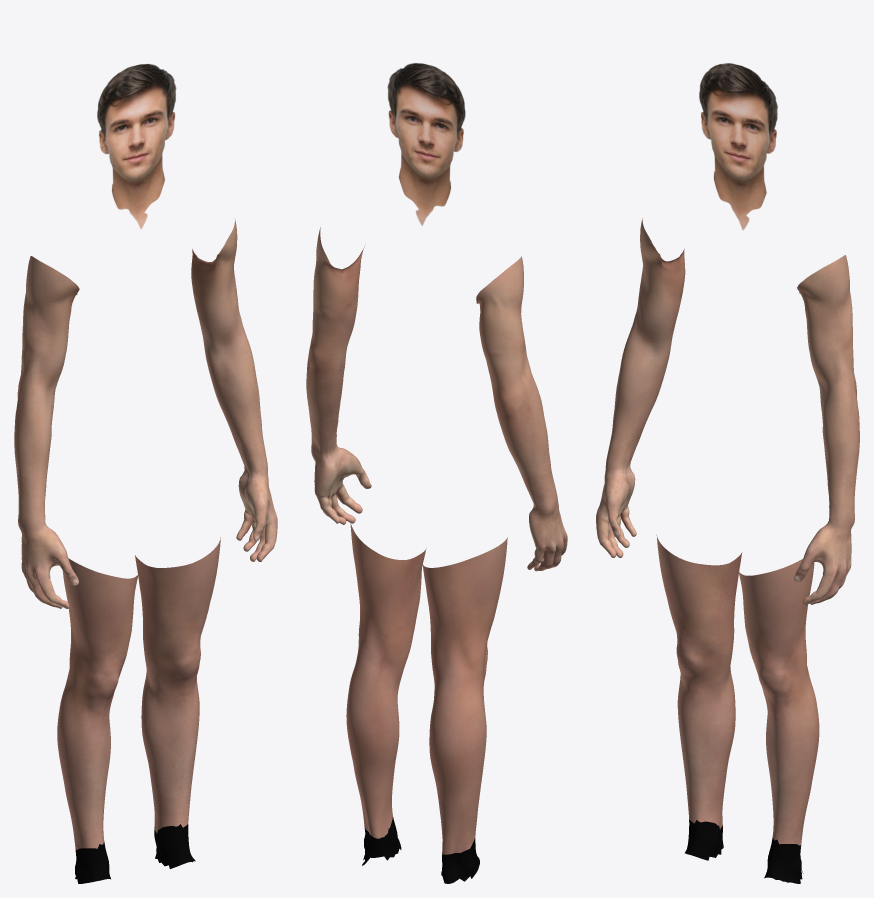
Rendered from male_model1.glb.
The picture shows the model from 3 angles, left to right: view 1: azimuth 30°, elevation 25°; view 2: azimuth 150°, elevation 25°; view 3: azimuth 330°, elevation 25°; orthographic projection.
Visible parts, largest first — view 1: body001_3, body_Node.001, face_plane.001; view 2: body001_3, body_Node.001, face_plane.001; view 3: body001_3, body_Node.001, face_plane.001.
Part boxes in pixels (x1,y1,x2,y2): body001_3: (57, 537, 220, 883); body_Node.001: (14, 219, 277, 608); face_plane.001: (97, 63, 176, 229); body001_3: (346, 521, 507, 883); body_Node.001: (306, 227, 567, 571); face_plane.001: (387, 63, 465, 226); body001_3: (656, 535, 819, 883); body_Node.001: (596, 218, 859, 605); face_plane.001: (699, 63, 777, 230).
Bounding box in the file's own units: 59.01 × 192 × 22.83.
Materials: 4 (3 with a texture image).
